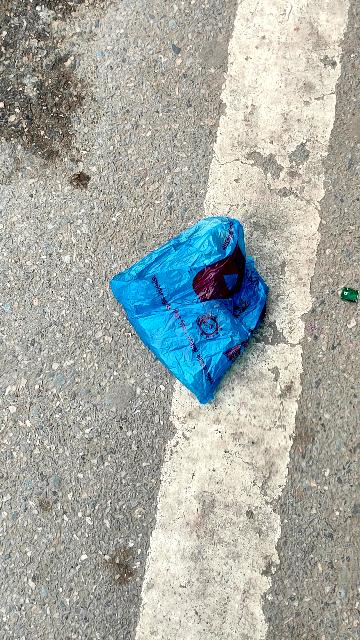polythene: (103, 207, 303, 413)
